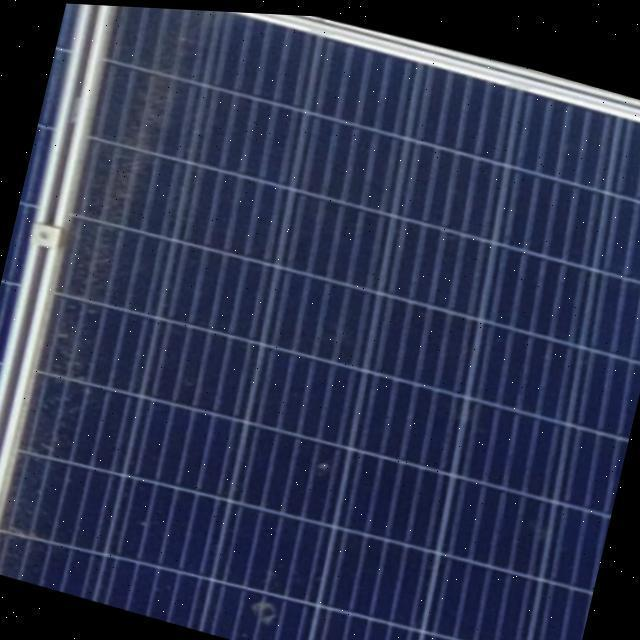Surface Contaminant: (0, 5, 221, 597), (218, 569, 309, 640)
